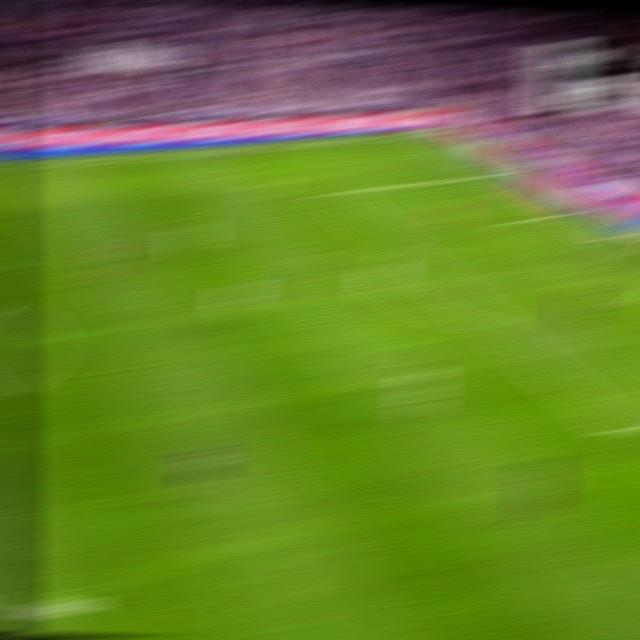bigarea_bottom_inner: (604, 417, 636, 439)
bigarea_top_inner: (320, 186, 346, 197)
bigarea_top_outter: (482, 168, 510, 177)
bottom_arc_area_intersection: (476, 316, 507, 333)
corner: (415, 130, 443, 137)
smallarea_top_inner: (499, 217, 525, 226)
top_arc_area_intersection: (381, 237, 410, 250)
